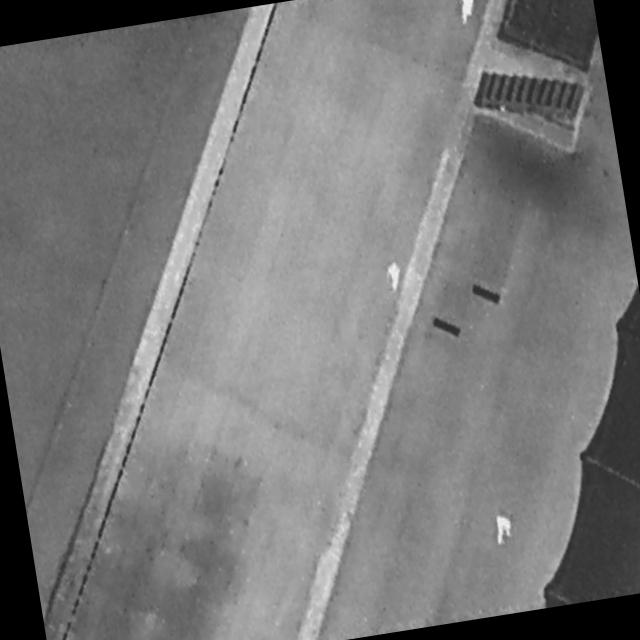person: (453, 1, 480, 29), (385, 260, 405, 294), (496, 513, 516, 546)
